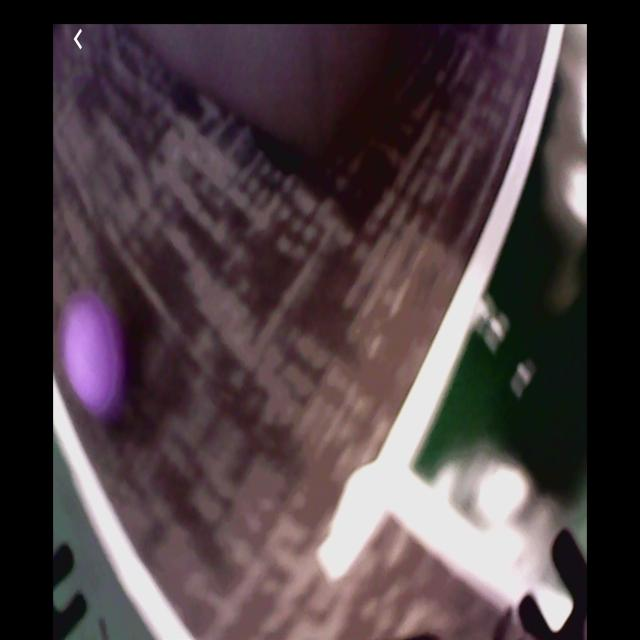ball: (63, 294, 120, 413)
